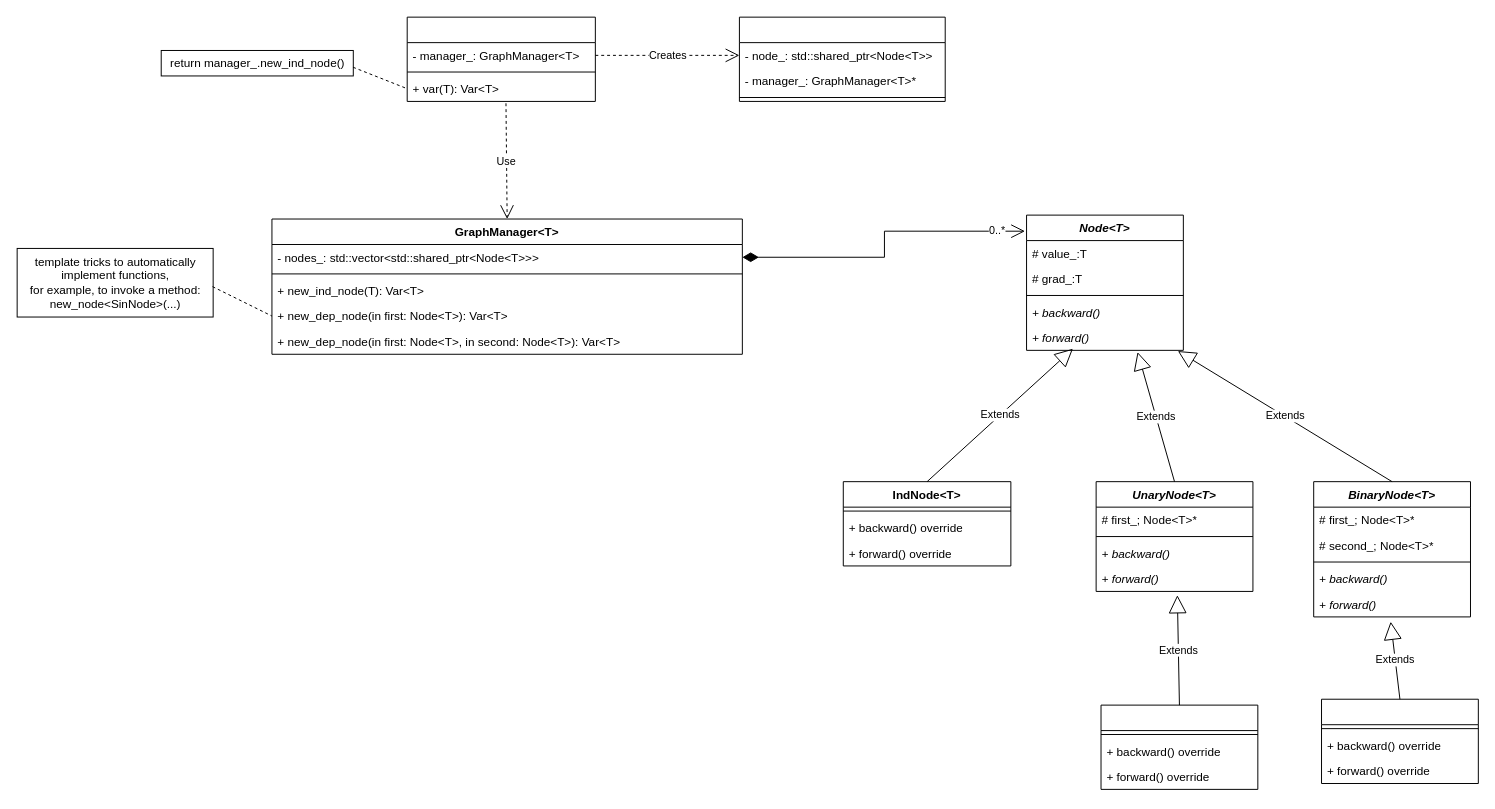
This 1495x809 diagram has some shape labels left out. Here are the shapes that lost their labels. From the top down, the box of each, then its label:
(406, 16, 595, 101): Tape<T>
(738, 16, 945, 101): Var<T>
(1100, 704, 1258, 789): SinNode<T>
(1321, 698, 1478, 784): AddNode<T>
